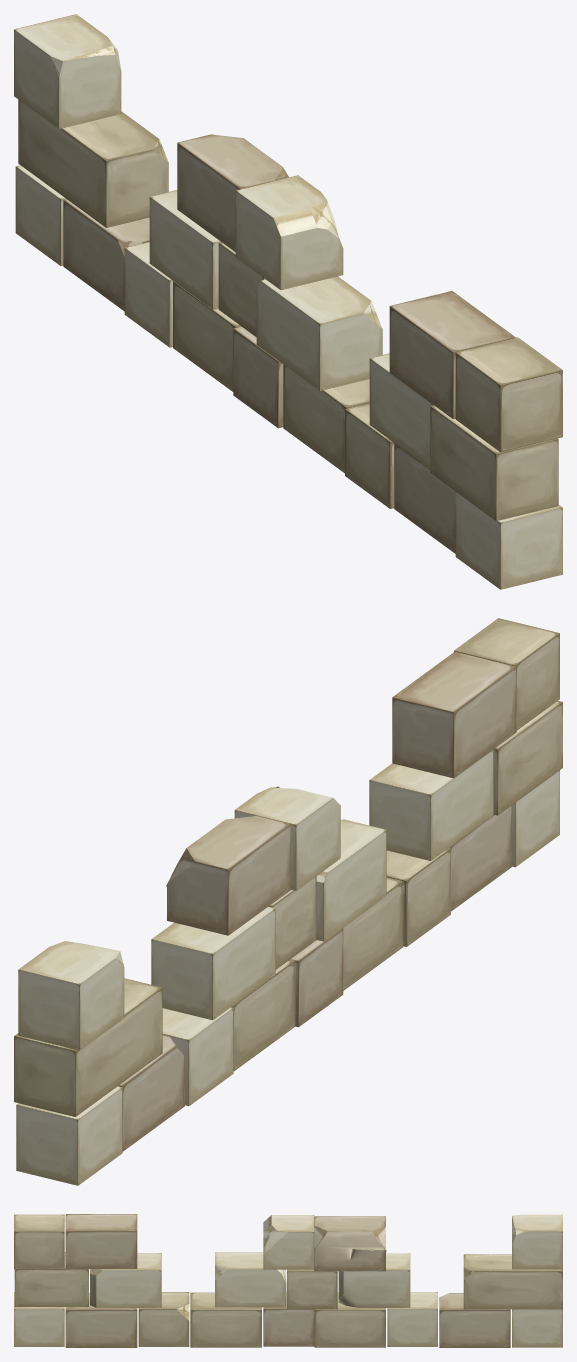
The model's file is mur_state2.FBX.
3 views of the same model, one above another, from view 1: azimuth 30°, elevation 25°; view 2: azimuth 150°, elevation 25°; view 3: azimuth 270°, elevation 25° (orthographic). The views are drawn at different scales.
Parts seen in each view (by area): view 1: Box119, Box107, Box125, Box121, Box109, Box124, Box104, Box123, Box116, Box113, Box118, Box106 (+8 smaller); view 2: Box104, Box116, Box119, Box113, Box121, Box102, Box117, Box107, Box125, Box109, Box124, Box111 (+8 smaller); view 3: Box119, Box116, Box104, Box107, Box106, Box102, Box118, Box113, Box101, Box112, Box124, Box125 (+8 smaller).
Boxes of the visible parts, box(x1,y1,x2,y2) form: Box119: box(18, 99, 168, 227); Box107: box(256, 276, 382, 390); Box125: box(455, 337, 562, 452); Box121: box(14, 14, 121, 128); Box109: box(235, 175, 343, 289); Box124: box(430, 405, 558, 520); Box104: box(389, 291, 515, 419); Box123: box(455, 492, 562, 589); Box116: box(177, 134, 288, 251); Box113: box(149, 190, 220, 309); Box118: box(63, 199, 149, 311); Box106: box(283, 364, 369, 473); Box104: box(392, 651, 516, 778); Box116: box(166, 816, 290, 935); Box119: box(14, 978, 162, 1116); Box113: box(151, 906, 275, 1020); Box121: box(18, 941, 124, 1050); Box102: box(369, 749, 493, 860); Box117: box(16, 1086, 122, 1185); Box107: box(316, 819, 386, 941); Box125: box(454, 618, 559, 730); Box109: box(234, 786, 340, 890); Box124: box(493, 701, 562, 815); Box111: box(162, 1007, 233, 1106); Box119: box(463, 1254, 562, 1309); Box116: box(314, 1216, 386, 1271); Box104: box(65, 1214, 137, 1268); Box107: box(215, 1252, 286, 1307); Box106: box(190, 1292, 261, 1347); Box102: box(90, 1253, 161, 1307); Box118: box(439, 1293, 510, 1347); Box113: box(338, 1253, 410, 1307); Box101: box(65, 1293, 137, 1347); Box112: box(314, 1292, 385, 1347); Box124: box(14, 1252, 88, 1306); Box125: box(14, 1214, 64, 1269).
Size of the model in its own units: 0.1767 by 0.4771 by 2.06.
